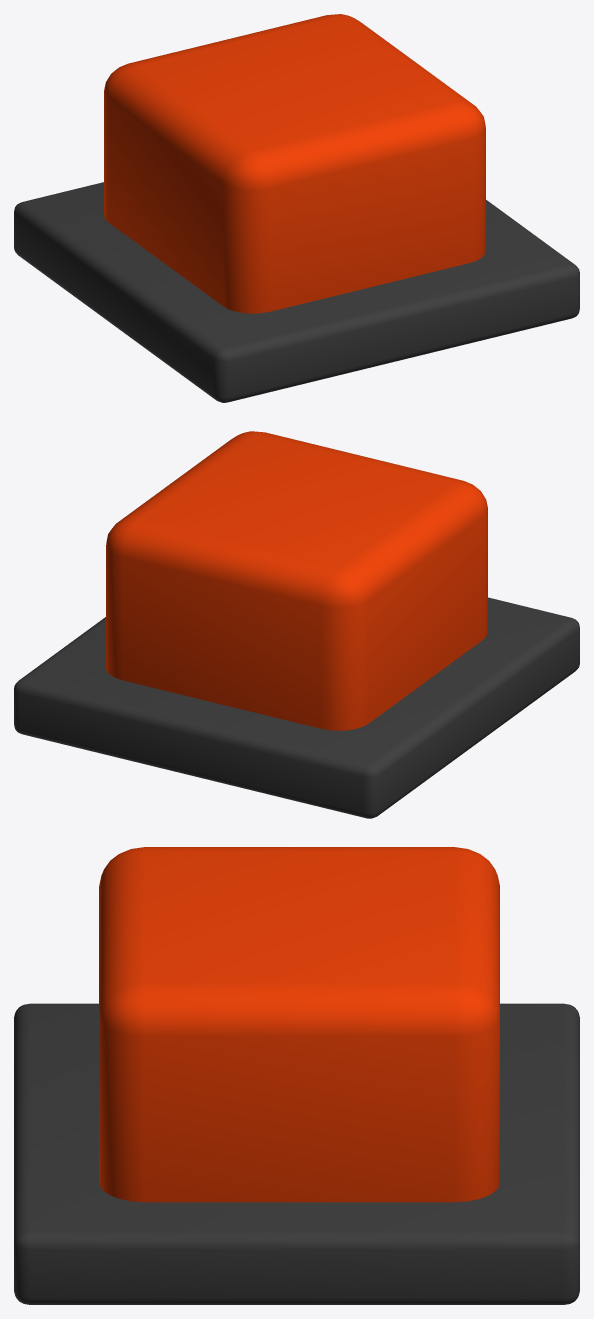
The model's file is guzikM.fbx.
3 renders of one model, top to bottom at view 1: azimuth 30°, elevation 25°; view 2: azimuth 150°, elevation 25°; view 3: azimuth 270°, elevation 25°, orthographic. The views are drawn at different scales.
Visible parts, largest first — view 1: Cube.020, Cube.021; view 2: Cube.020, Cube.021; view 3: Cube.020, Cube.021.
Part boxes in pixels (x1=…): Cube.020: x1=104, y1=14, x2=485, y2=313; Cube.021: x1=14, y1=182, x2=579, y2=402; Cube.020: x1=106, y1=431, x2=487, y2=730; Cube.021: x1=14, y1=597, x2=579, y2=818; Cube.020: x1=99, y1=847, x2=499, y2=1202; Cube.021: x1=14, y1=1003, x2=579, y2=1304.
Bounding box in the file's own units: 46.17 × 46.17 × 24.56.
